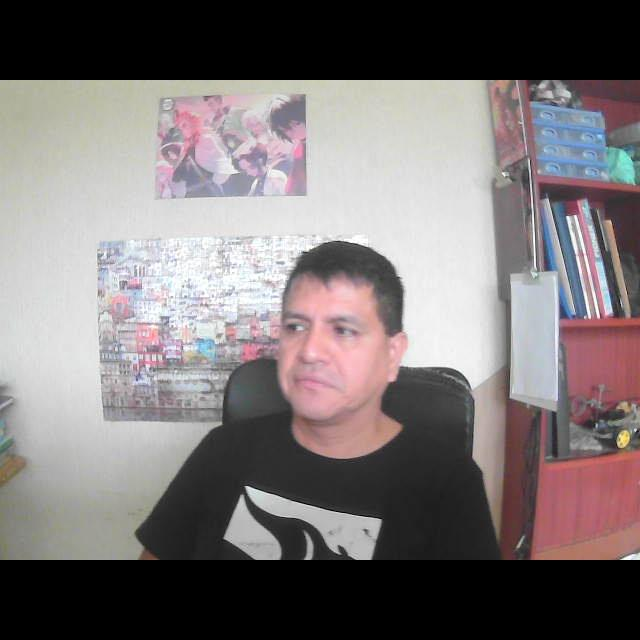cesar: (258, 233, 428, 462)
